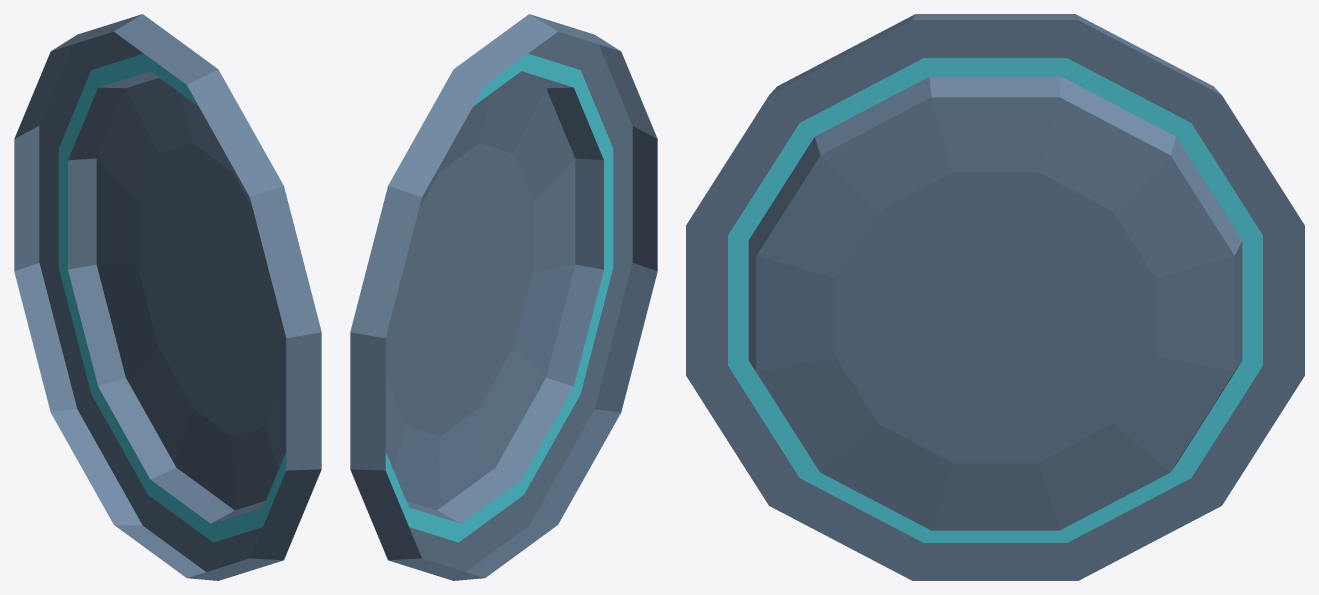
The model's file is Cap.glb.
3 views of the same model, side by side, from view 1: azimuth 30°, elevation 25°; view 2: azimuth 150°, elevation 25°; view 3: azimuth 270°, elevation 25° (orthographic). The views are drawn at different scales.
Visible parts, largest first — view 1: container_cap.001; view 2: container_cap.001; view 3: container_cap.001.
Part boxes in pixels (box(x1,y1,x2,y2)): container_cap.001: box(14, 14, 321, 580); container_cap.001: box(350, 14, 657, 580); container_cap.001: box(686, 14, 1304, 580).
Size of the model in its own units: 0.2655 by 2.1 by 2.1.
Materials: 1 (1 with a texture image).
